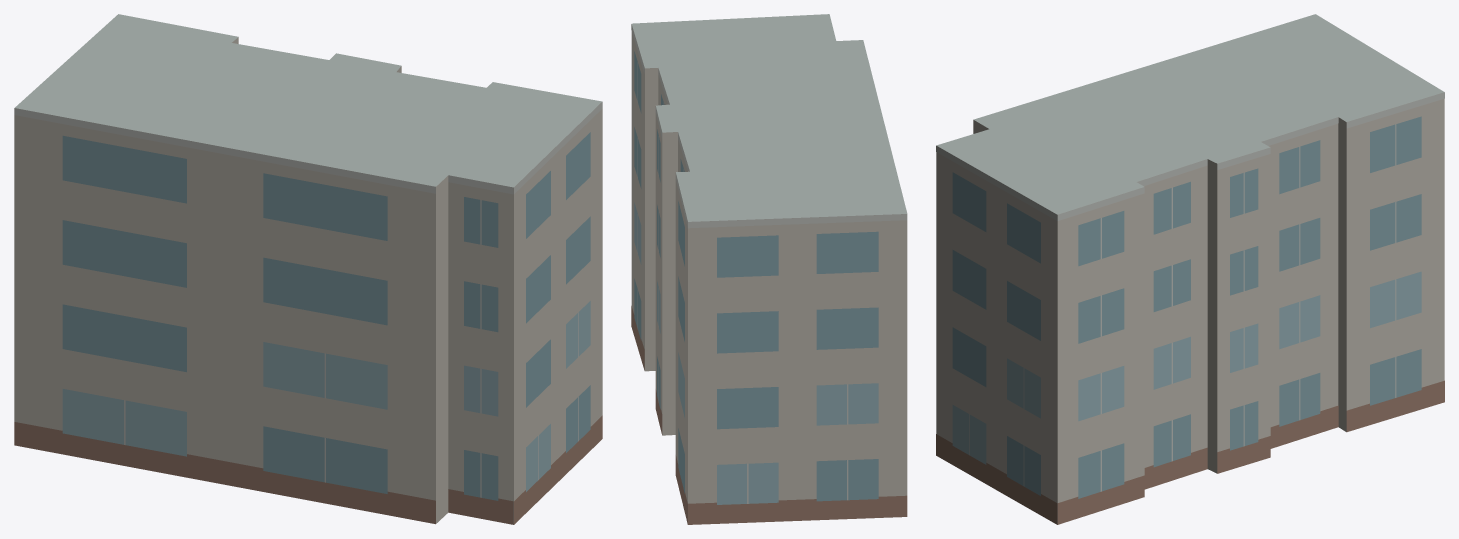
The model's file is survey-upis-33020189.glb.
The picture shows the model from 3 angles, left to right: view 1: azimuth 30°, elevation 25°; view 2: azimuth 150°, elevation 25°; view 3: azimuth 270°, elevation 25°; orthographic projection. The views are drawn at different scales.
Visible parts, largest first — view 1: survey-upis-33020189.tmp; view 2: survey-upis-33020189.tmp; view 3: survey-upis-33020189.tmp.
Boxes of the visible parts, <box> form: survey-upis-33020189.tmp: <box>14,14,602,524</box>; survey-upis-33020189.tmp: <box>631,14,907,524</box>; survey-upis-33020189.tmp: <box>936,14,1444,524</box>.
Size of the model in its own units: 16.26 by 11.7 by 17.4.
